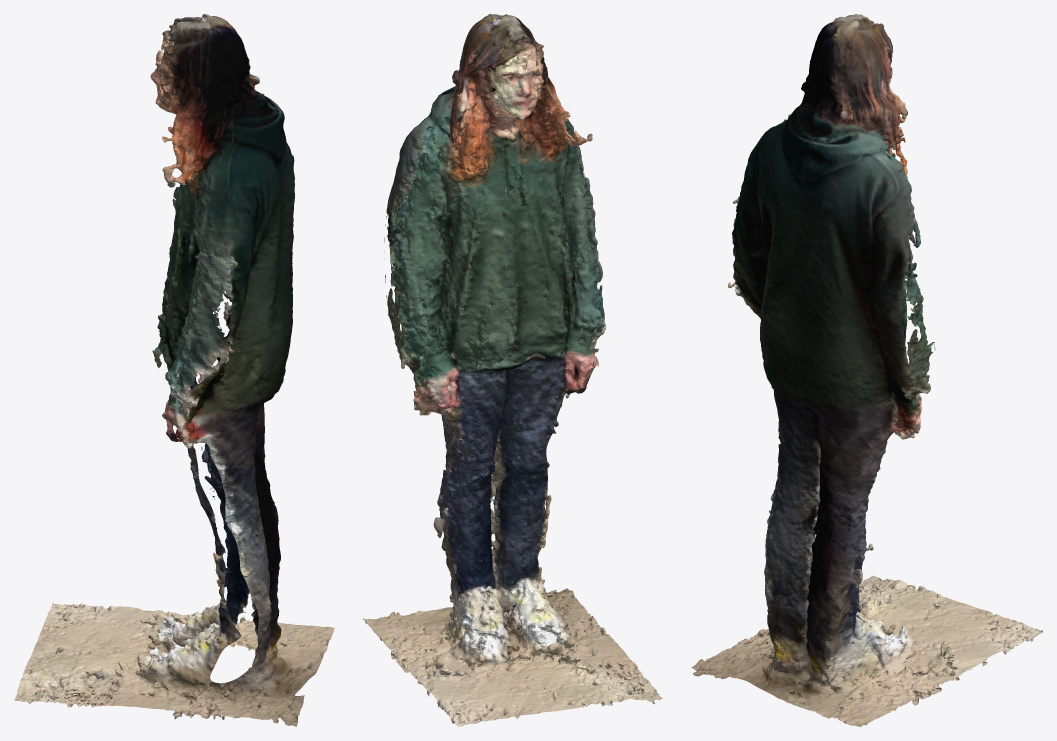
3 renders of one model, left to right at view 1: azimuth 30°, elevation 25°; view 2: azimuth 150°, elevation 25°; view 3: azimuth 270°, elevation 25°, orthographic. The views are drawn at different scales.
Bounding box in the file's own units: 0.9056 × 1.81 × 0.8862.
Materials: 1 (1 with a texture image).
